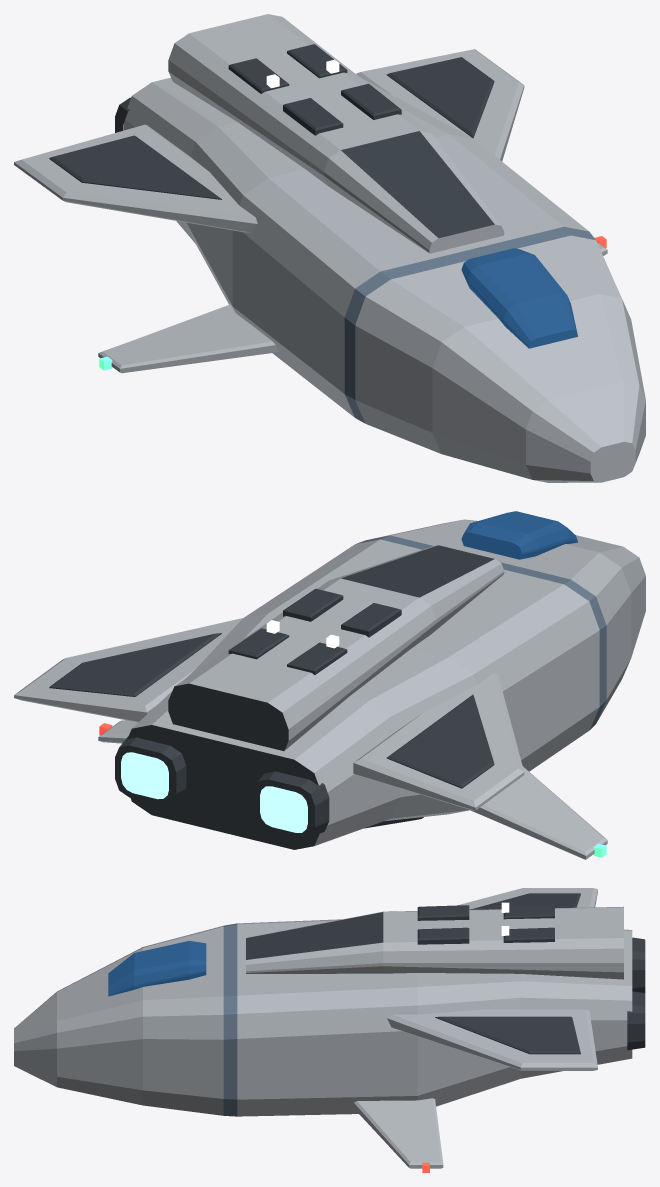
Rendered from federal-assault-ship.glb.
3 renders of one model, top to bottom at view 1: azimuth 30°, elevation 25°; view 2: azimuth 150°, elevation 25°; view 3: azimuth 270°, elevation 25°, orthographic. The views are drawn at different scales.
Visible parts, largest first — view 1: federal-assault-ship; view 2: federal-assault-ship; view 3: federal-assault-ship.
Part boxes in pixels (<box>): federal-assault-ship: <box>14,14,645,482</box>; federal-assault-ship: <box>14,511,645,859</box>; federal-assault-ship: <box>14,888,645,1172</box>.
Size of the model in its own units: 53.59 by 22.79 by 73.58.
